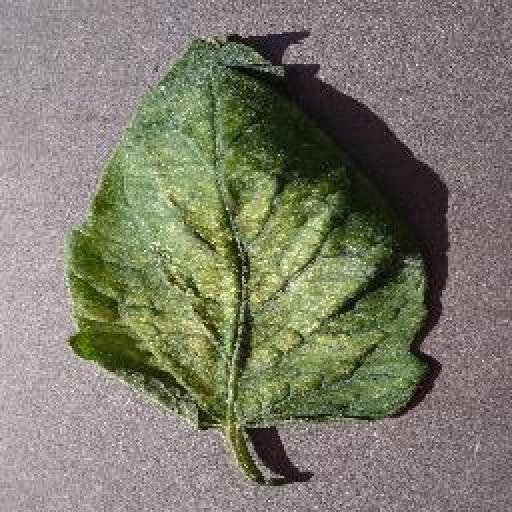disease_tomato: (74, 32, 433, 435)
